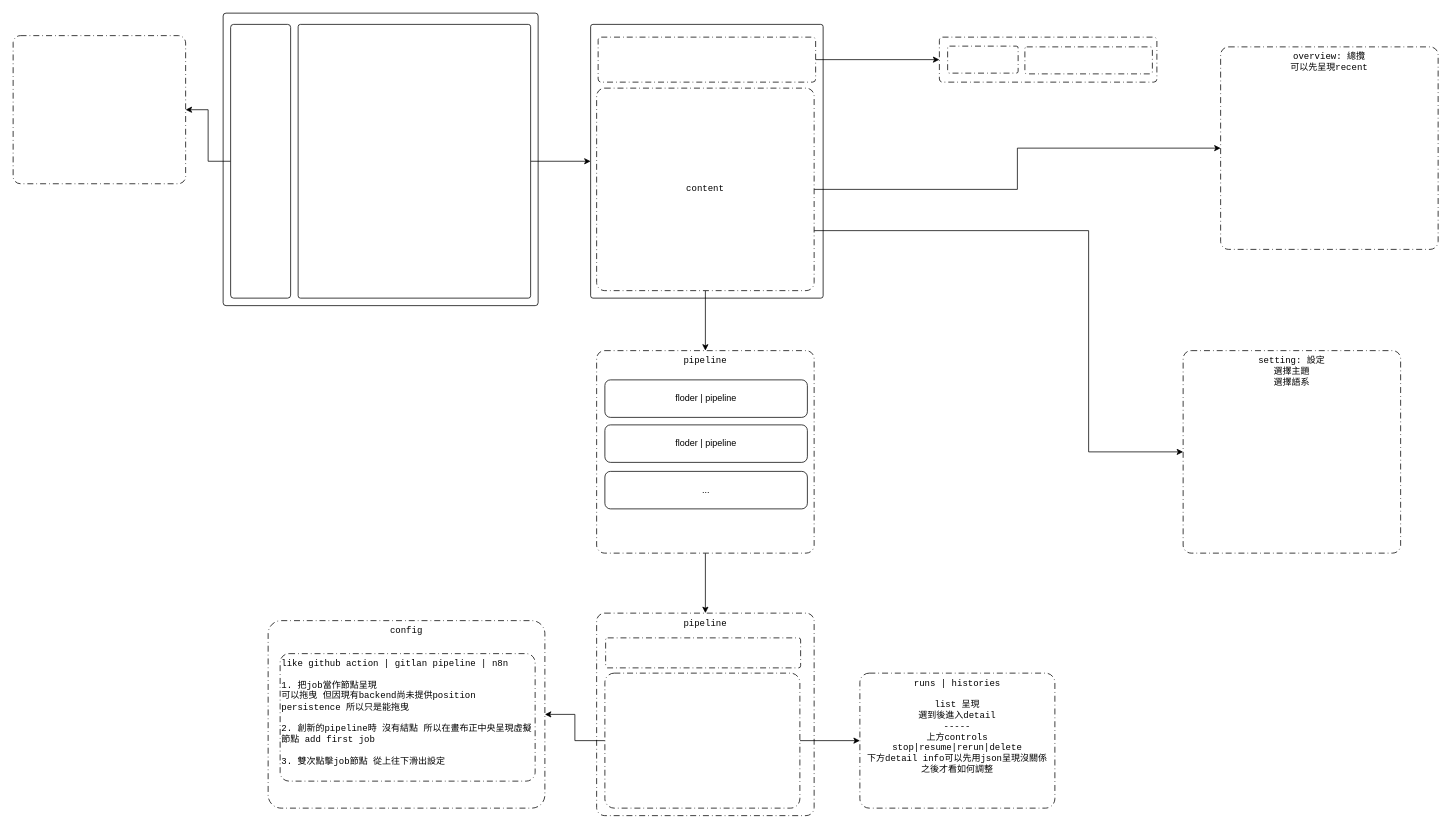
Image size: 1451x829. Some labels were removed from this diagram. The shapes that lost their labels are listed below. From the top down, each one's centre as x and y in pixels, then its label:
At point 706,59: "header".
At point 982,59: "title".
At point 1088,60: "workspace/theme/locale info & selector".
At point 99,109: "sidebar 可往左收闔 收合後剩下icon overview pipeline setting".
At point 703,652: "tab: config | runs".
At point 702,740: "tab content".
